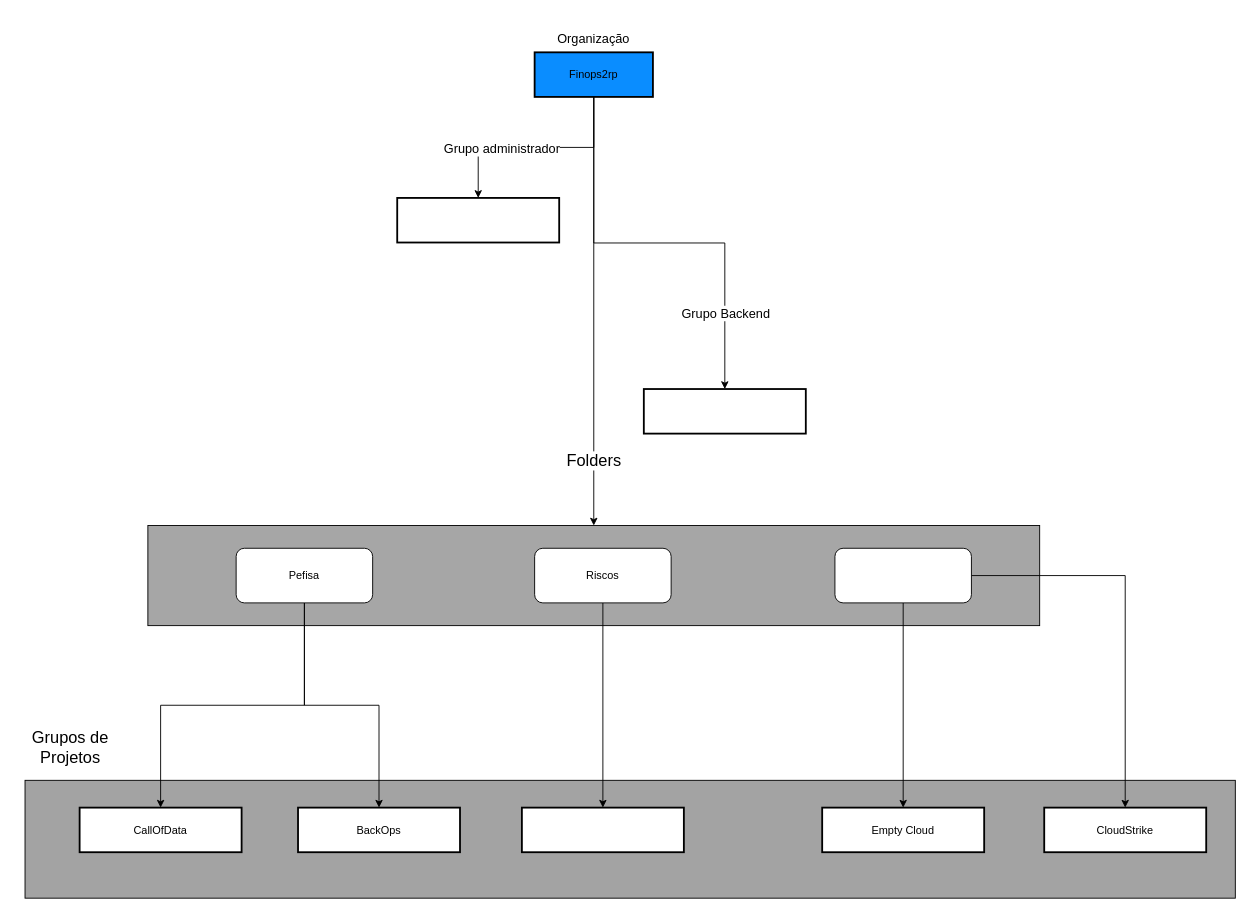
This 1251x914 diagram has some shape labels left out. The centre of each missing label's shape, as x and y in pixels:
"DevOps" belongs at point 478,220.
"FullStack" belongs at point 724,411.
"Halo World" belongs at point 602,829.
"Varejo" belongs at point 902,575.
